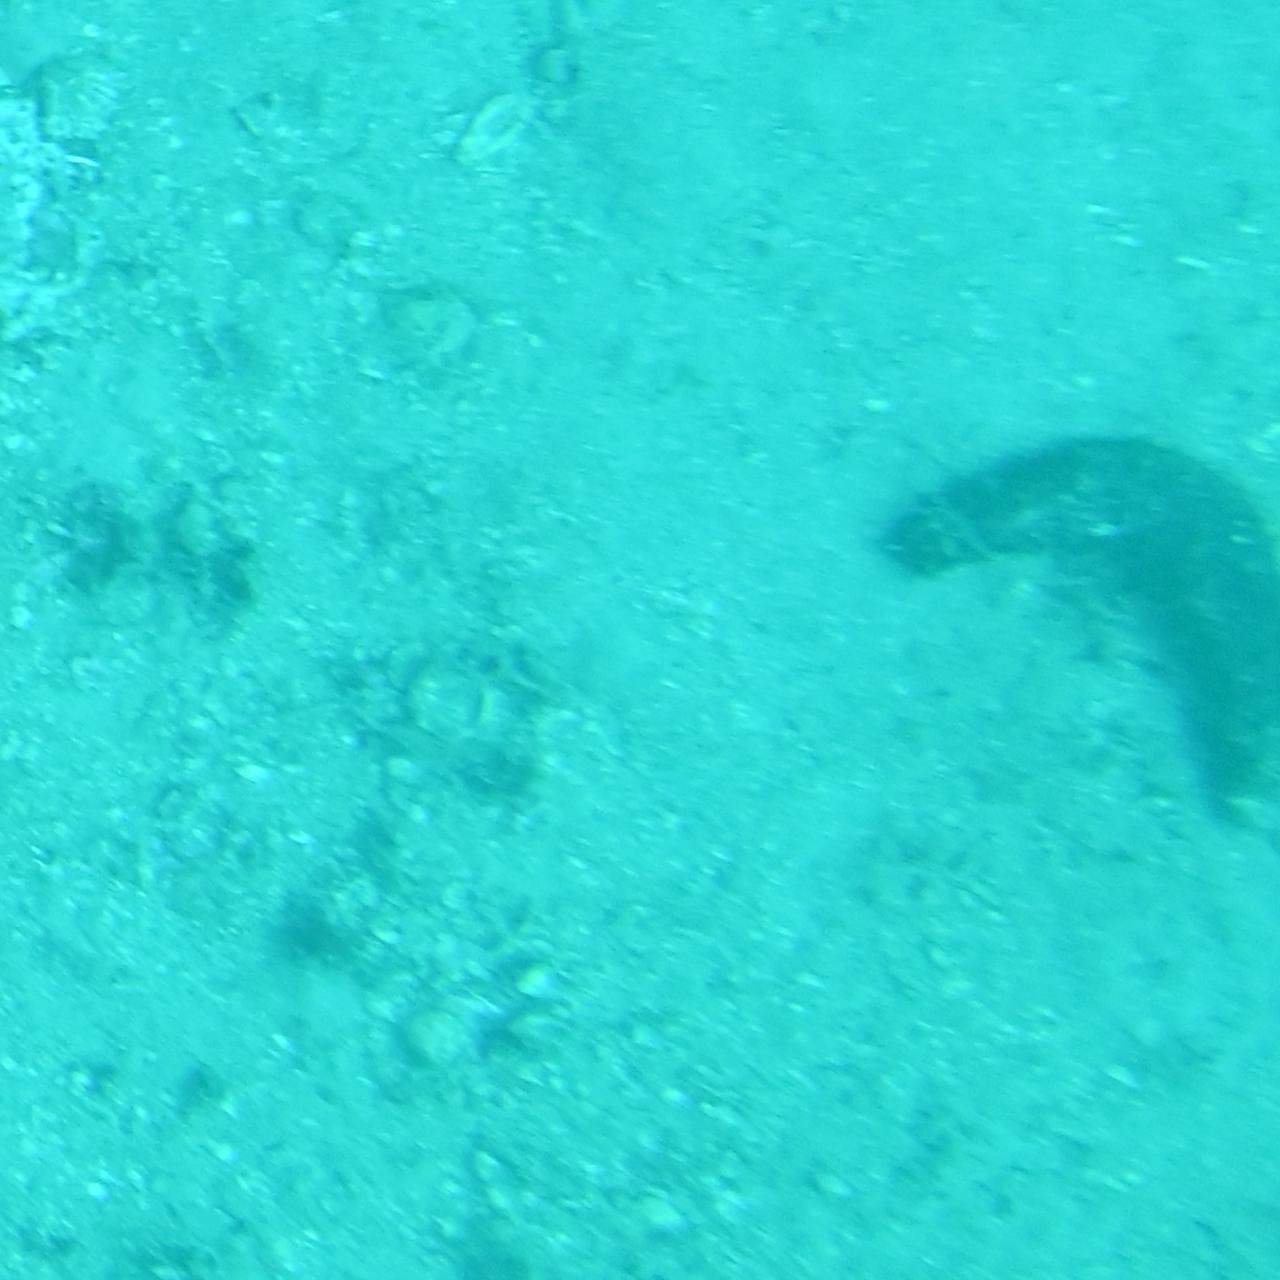Holothuria tubulosa: (876, 430, 1276, 850)
